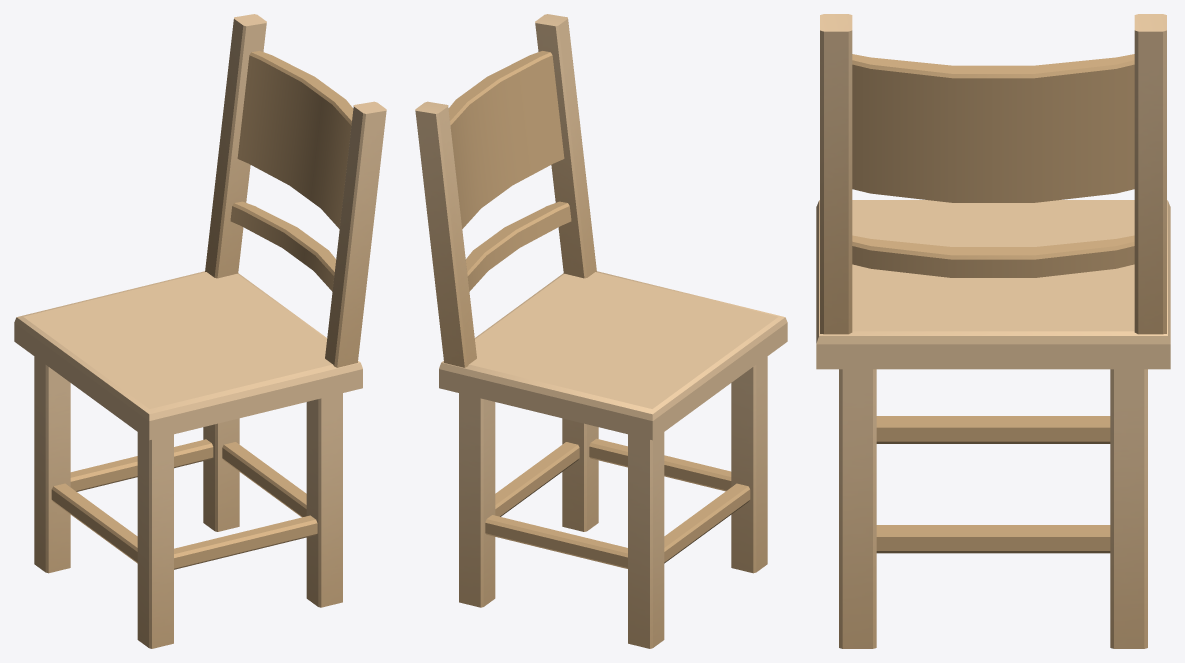
Rendered from ChairWood.FBX.
3 renders of one model, left to right at view 1: azimuth 30°, elevation 25°; view 2: azimuth 150°, elevation 25°; view 3: azimuth 270°, elevation 25°, orthographic. The views are drawn at different scales.
Parts seen in each view (by area): view 1: ChairWood_000; view 2: ChairWood_000; view 3: ChairWood_000.
Part boxes in pixels (x1,y1,x2,y2): ChairWood_000: (14,14,386,648); ChairWood_000: (415,14,787,648); ChairWood_000: (816,14,1170,648).
Bounding box in the file's own units: 19.79 × 37.06 × 18.5.
